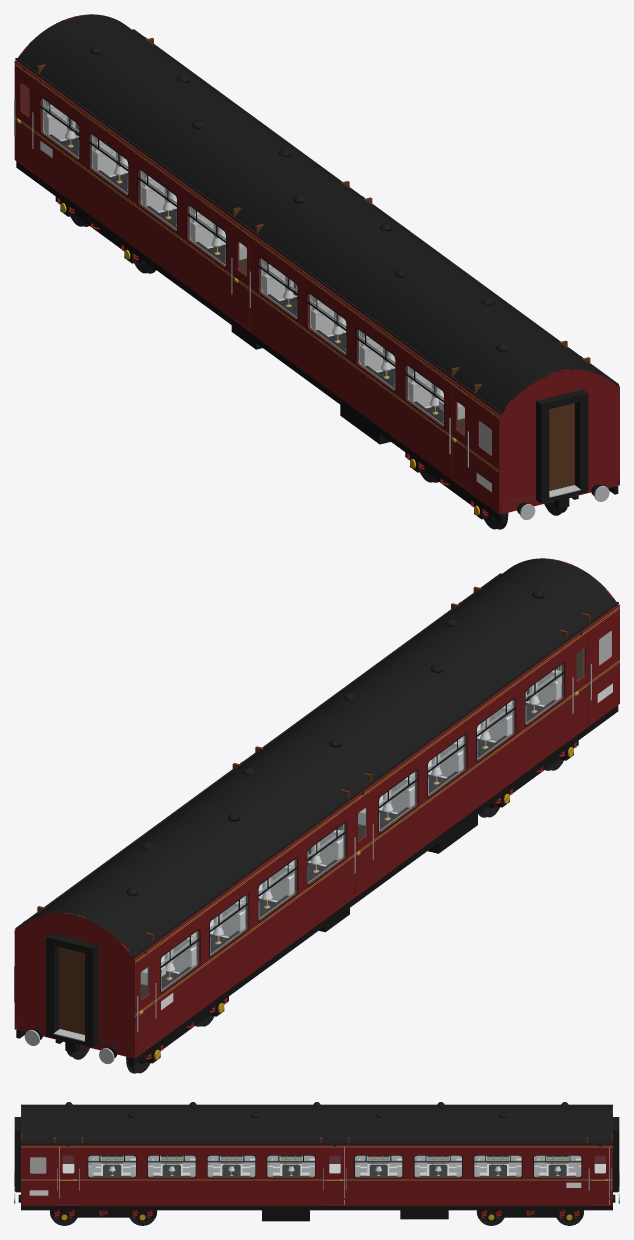
Rendered from coach_fo2_lod0.glb.
3 renders of one model, top to bottom at view 1: azimuth 30°, elevation 25°; view 2: azimuth 150°, elevation 25°; view 3: azimuth 270°, elevation 25°, orthographic. The views are drawn at different scales.
Visible parts, largest first — view 1: coach_static_roof_black, coach_static_coach_maroon, coach_static_glass, coach_static_rubber, coach_static_underframe, coach_int_decal_damask, coach_static_lining_gold, coach_int_wood_panel, gw_door_A_wood_panel, coach_int_table_top, coach_int_steel, coach_door_B_R_coach_maroon (+4 smaller); view 2: coach_static_roof_black, coach_static_coach_maroon, coach_static_glass, coach_static_rubber, coach_static_underframe, coach_int_decal_damask, coach_static_lining_gold, coach_int_wood_panel, gw_door_B_wood_panel, coach_int_table_top, coach_int_steel, coach_door_A_R_coach_maroon (+5 smaller); view 3: coach_static_roof_black, coach_static_coach_maroon, coach_static_glass, coach_static_underframe, coach_int_decal_damask, coach_static_rubber, coach_static_lining_gold, coach_int_table_top, coach_int_steel, coach_int_wood_panel, coach_int_decal_carpetfc, coach_door_C_L_coach_maroon (+11 smaller).
Boxes of the visible parts, x1=… form: coach_static_roof_black: x1=15, y1=14, x2=618, y2=415; coach_static_coach_maroon: x1=14, y1=14, x2=619, y2=514; coach_static_glass: x1=41, y1=98, x2=443, y2=426; coach_static_rubber: x1=39, y1=96, x2=588, y2=503; coach_static_underframe: x1=16, y1=161, x2=618, y2=522; coach_int_decal_damask: x1=44, y1=107, x2=464, y2=423; coach_static_lining_gold: x1=14, y1=62, x2=499, y2=472; coach_int_wood_panel: x1=17, y1=38, x2=590, y2=453; gw_door_A_wood_panel: x1=549, y1=403, x2=574, y2=490; coach_int_table_top: x1=46, y1=133, x2=443, y2=424; coach_int_steel: x1=43, y1=99, x2=443, y2=425; coach_door_B_R_coach_maroon: x1=17, y1=66, x2=32, y2=170; coach_static_roof_black: x1=15, y1=558, x2=618, y2=958; coach_static_coach_maroon: x1=14, y1=558, x2=619, y2=1058; coach_static_glass: x1=161, y1=664, x2=563, y2=991; coach_static_rubber: x1=46, y1=662, x2=565, y2=1047; coach_static_underframe: x1=16, y1=705, x2=618, y2=1066; coach_int_decal_damask: x1=140, y1=673, x2=561, y2=989; coach_static_lining_gold: x1=14, y1=606, x2=619, y2=1016; coach_int_wood_panel: x1=37, y1=586, x2=616, y2=999; gw_door_B_wood_panel: x1=59, y1=947, x2=84, y2=1034; coach_int_table_top: x1=161, y1=698, x2=559, y2=990; coach_int_steel: x1=161, y1=648, x2=583, y2=990; coach_door_A_R_coach_maroon: x1=573, y1=631, x2=588, y2=735; coach_static_roof_black: x1=21, y1=1102, x2=612, y2=1144; coach_static_coach_maroon: x1=21, y1=1106, x2=612, y2=1205; coach_static_glass: x1=88, y1=1156, x2=580, y2=1177; coach_static_underframe: x1=16, y1=1191, x2=617, y2=1221; coach_int_decal_damask: x1=88, y1=1155, x2=581, y2=1176; coach_static_rubber: x1=14, y1=1117, x2=619, y2=1191; coach_static_lining_gold: x1=21, y1=1146, x2=612, y2=1180; coach_int_table_top: x1=90, y1=1164, x2=579, y2=1176; coach_int_steel: x1=88, y1=1157, x2=581, y2=1176; coach_int_wood_panel: x1=30, y1=1137, x2=588, y2=1177; coach_int_decal_carpetfc: x1=59, y1=1164, x2=609, y2=1197; coach_door_C_L_coach_maroon: x1=325, y1=1147, x2=343, y2=1204.
Size of the model in its own units: 2.9 by 3.99 by 20.12.
